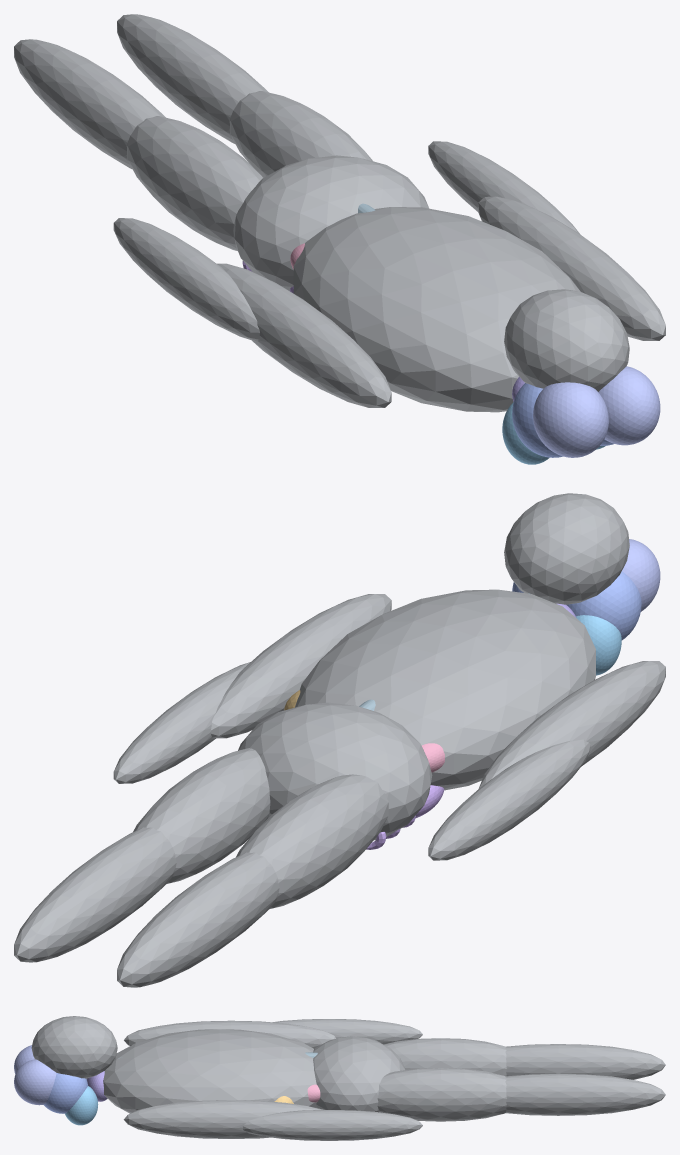
Rendered from dopamind_body.glb.
The picture shows the model from 3 angles, top to bottom: view 1: azimuth 30°, elevation 25°; view 2: azimuth 150°, elevation 25°; view 3: azimuth 270°, elevation 25°; orthographic projection. The views are drawn at different scales.
Visible parts, largest first — view 1: Body_Torso, Body_Pelvis, Body_LeftThigh, Body_Head, Body_LeftArm, Body_LeftShin, Body_RightShin, Body_RightArm, Body_LeftForearm, Body_RightThigh, Brain_Parietal_L, Body_RightForearm (+3 smaller); view 2: Body_Torso, Body_Pelvis, Body_LeftThigh, Body_RightShin, Body_LeftShin, Body_Head, Body_RightThigh, Body_RightArm, Body_LeftArm, Body_LeftForearm, Body_RightForearm, Brain_Frontal_L (+2 smaller); view 3: Body_Torso, Body_RightThigh, Body_RightShin, Body_Pelvis, Body_RightArm, Body_LeftShin, Body_RightForearm, Body_Head, Body_LeftThigh, Body_LeftArm, Body_LeftForearm, Brain_Parietal_R (+4 smaller).
Boxes of the visible parts, bbox=[...] form: Body_Torso: bbox=[293, 207, 580, 412]; Body_Pelvis: bbox=[233, 155, 428, 290]; Body_LeftThigh: bbox=[126, 116, 262, 250]; Body_Head: bbox=[504, 289, 629, 391]; Body_LeftArm: bbox=[217, 263, 391, 407]; Body_LeftShin: bbox=[14, 39, 165, 169]; Body_RightShin: bbox=[117, 14, 268, 144]; Body_RightArm: bbox=[478, 196, 665, 340]; Body_LeftForearm: bbox=[113, 218, 259, 341]; Body_RightThigh: bbox=[229, 91, 372, 177]; Brain_Parietal_L: bbox=[533, 382, 608, 457]; Body_RightForearm: bbox=[428, 141, 580, 234]; Body_Torso: bbox=[295, 589, 595, 790]; Body_Pelvis: bbox=[238, 702, 432, 840]; Body_LeftThigh: bbox=[236, 774, 388, 909]; Body_RightShin: bbox=[14, 827, 176, 962]; Body_LeftShin: bbox=[117, 852, 279, 987]; Body_Head: bbox=[504, 493, 629, 604]; Body_RightThigh: bbox=[133, 748, 270, 883]; Body_RightArm: bbox=[211, 594, 391, 738]; Body_LeftArm: bbox=[478, 661, 665, 788]; Body_LeftForearm: bbox=[428, 739, 590, 860]; Body_RightForearm: bbox=[113, 662, 250, 783]; Brain_Frontal_L: bbox=[566, 571, 641, 640]; Body_Torso: bbox=[103, 1029, 316, 1113]; Body_RightThigh: bbox=[377, 1068, 506, 1121]; Body_RightShin: bbox=[505, 1073, 665, 1115]; Body_Pelvis: bbox=[313, 1036, 405, 1112]; Body_RightArm: bbox=[123, 1100, 323, 1138]; Body_LeftShin: bbox=[505, 1044, 665, 1079]; Body_RightForearm: bbox=[243, 1110, 422, 1140]; Body_Head: bbox=[31, 1016, 117, 1078]; Body_LeftThigh: bbox=[384, 1038, 506, 1076]; Body_LeftArm: bbox=[124, 1020, 335, 1048]; Body_LeftForearm: bbox=[273, 1019, 422, 1044]; Brain_Parietal_R: bbox=[14, 1059, 56, 1105].
Bounding box in the file's own units: 1.26 × 0.57 × 3.33.
